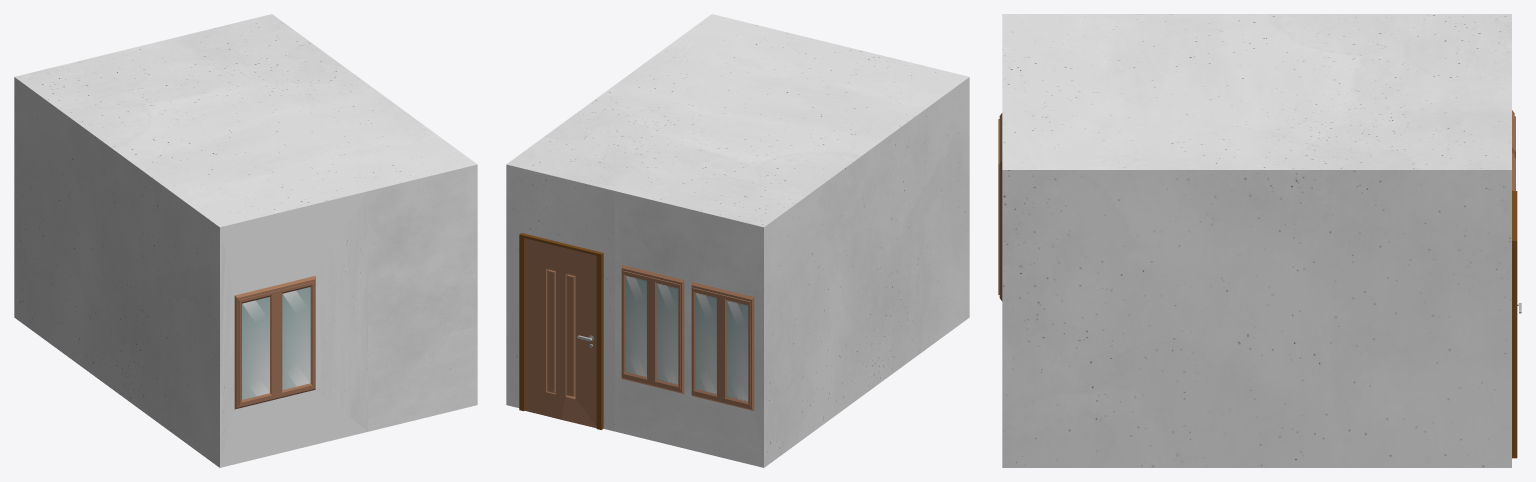
File: player office.fbx
3 views of the same model, side by side, from view 1: azimuth 30°, elevation 25°; view 2: azimuth 150°, elevation 25°; view 3: azimuth 270°, elevation 25° (orthographic). The views are drawn at different scales.
Parts seen in each view (by area): view 1: Cube; view 2: Cube; view 3: Cube.
Part boxes in pixels (x1,y1,x2,y2): Cube: (14,14,477,467); Cube: (506,14,969,467); Cube: (998,14,1521,467).
Size of the model in its own units: 341 by 304 by 483.
5 materials, 5 textured.
